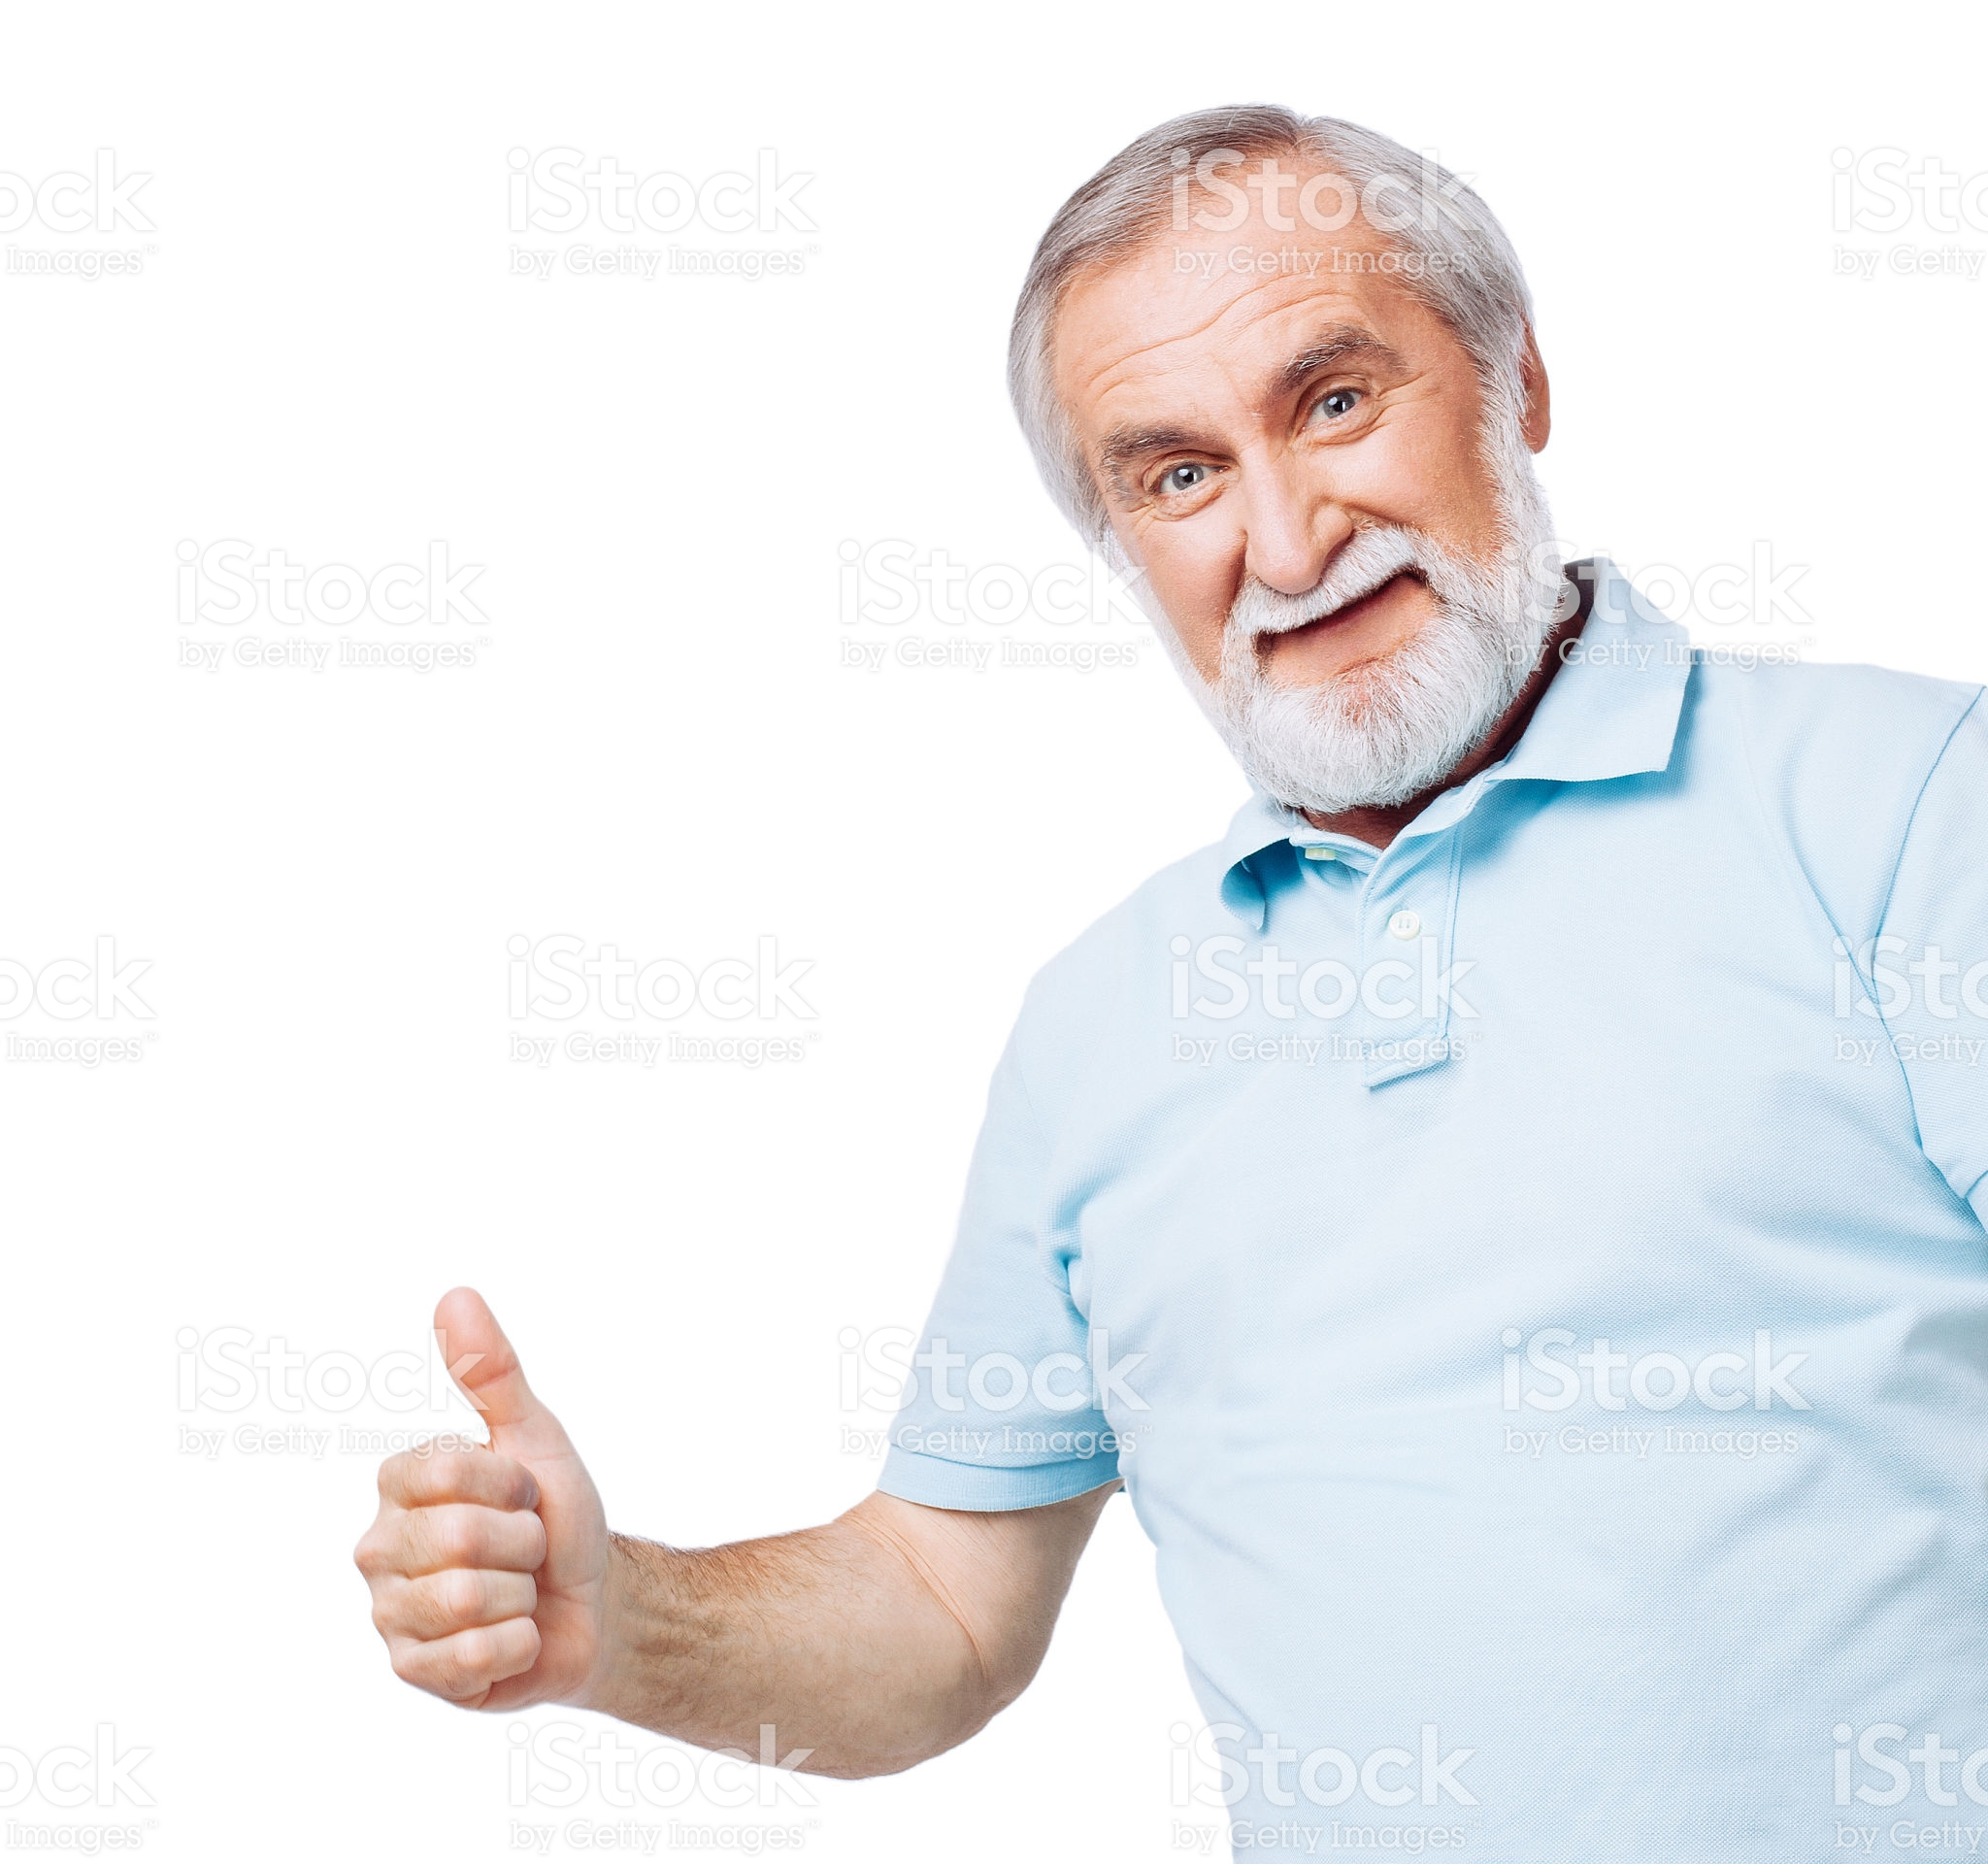thumbsup: (350, 1284, 603, 1717)
